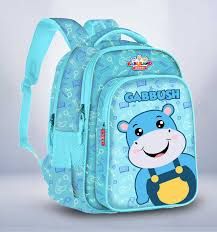bag: (23, 16, 199, 216)
